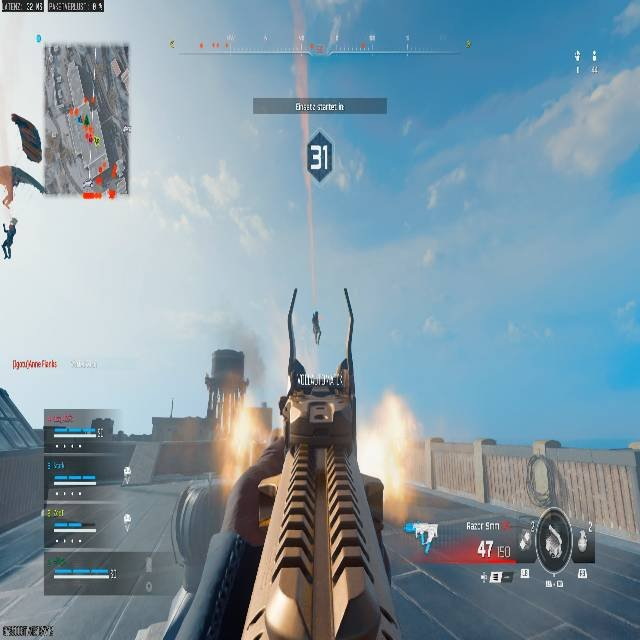player: (122, 466, 131, 486)
